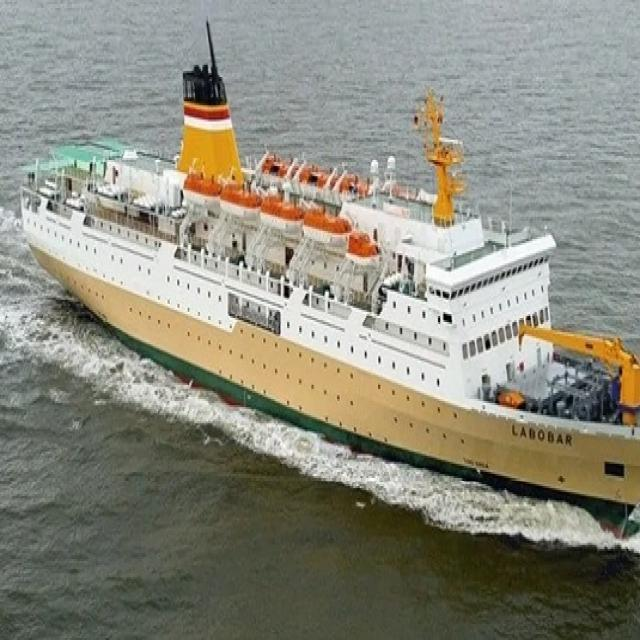PassengerShip: (34, 79, 640, 469)
